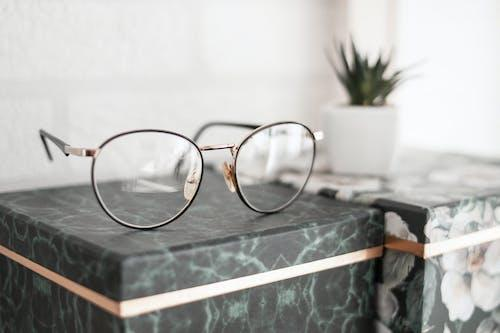eyeglasses: (33, 112, 335, 237)
